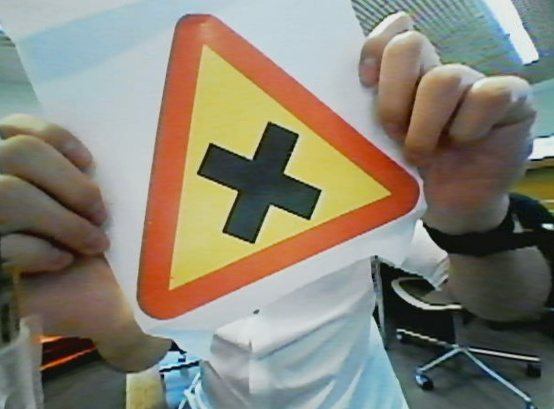junction: (125, 16, 428, 325)
